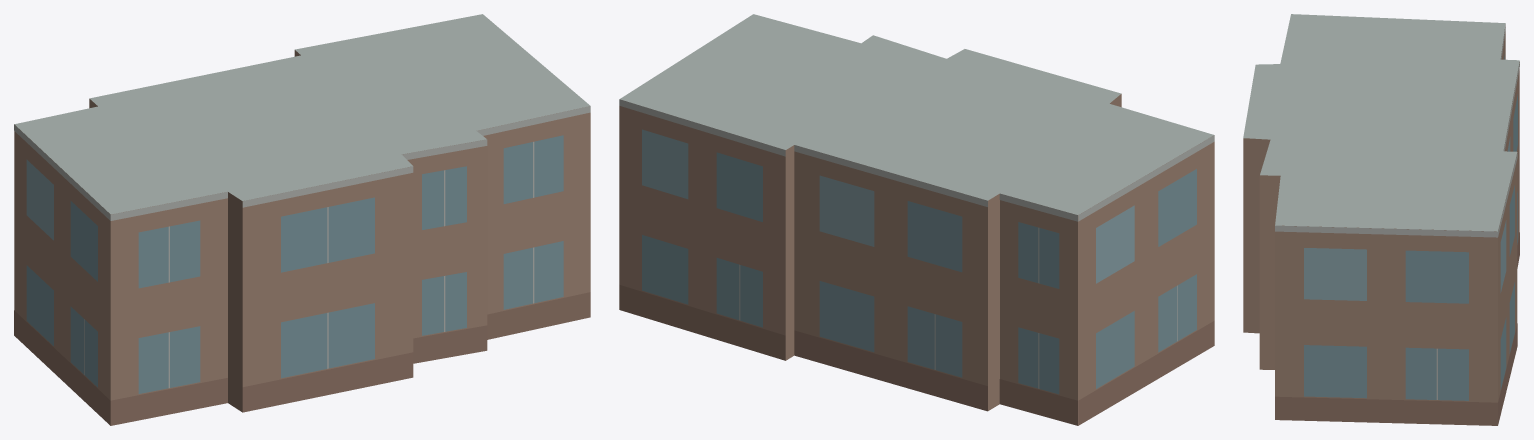
Rendered from survey-upis-32538021.glb.
3 views of the same model, side by side, from view 1: azimuth 30°, elevation 25°; view 2: azimuth 150°, elevation 25°; view 3: azimuth 270°, elevation 25° (orthographic). The views are drawn at different scales.
Parts seen in each view (by area): view 1: survey-upis-32538021.tmp; view 2: survey-upis-32538021.tmp; view 3: survey-upis-32538021.tmp.
Part boxes in pixels (x1,y1,x2,y2): survey-upis-32538021.tmp: (14, 14, 590, 425); survey-upis-32538021.tmp: (619, 14, 1214, 425); survey-upis-32538021.tmp: (1243, 14, 1519, 425).
Size of the model in its own units: 18.84 by 7.85 by 10.14.
